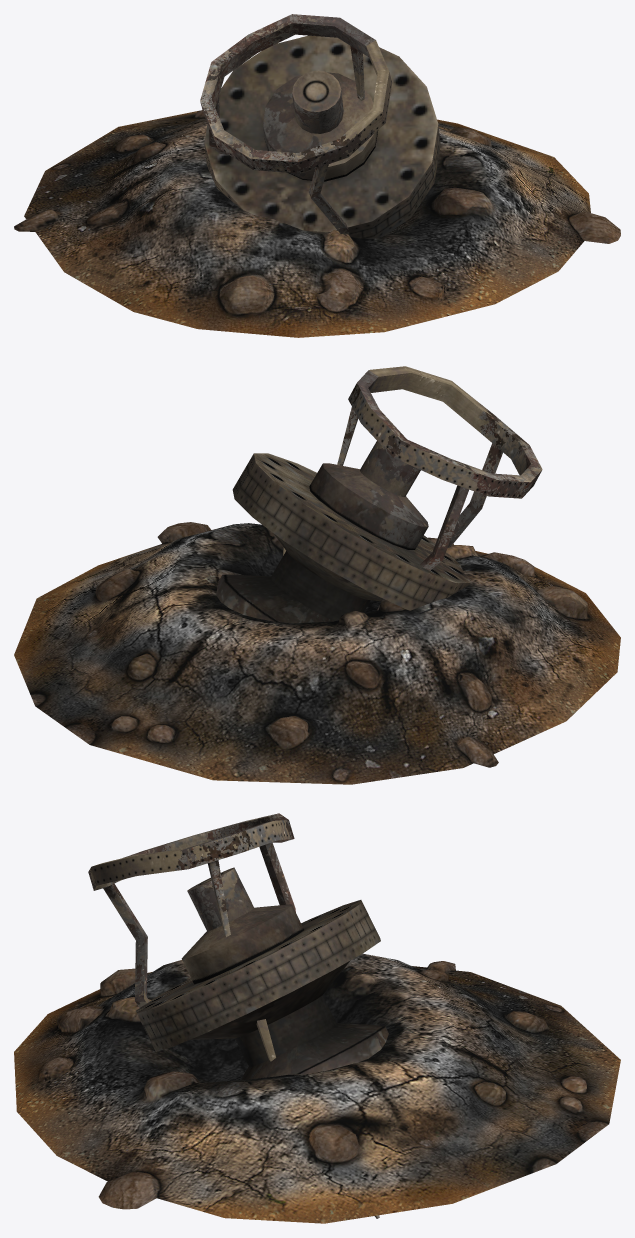
File: rubble_crater2_3x3.dae
The picture shows the model from 3 angles, top to bottom: view 1: azimuth 30°, elevation 25°; view 2: azimuth 150°, elevation 25°; view 3: azimuth 270°, elevation 25°; orthographic projection. The views are drawn at different scales.
Visible parts, largest first — view 1: crater1, rubble_part00, rubble_pieces04; view 2: crater1, rubble_part00, rubble_pieces04; view 3: crater1, rubble_part00, rubble_pieces04.
Part boxes in pixels (<box>): crater1: <box>14,110,620,337</box>; rubble_part00: <box>204,35,440,238</box>; rubble_pieces04: <box>200,14,392,235</box>; crater1: <box>14,522,620,784</box>; rubble_part00: <box>216,441,470,623</box>; rubble_pieces04: <box>283,366,542,610</box>; crater1: <box>14,953,620,1223</box>; rubble_part00: <box>136,867,388,1218</box>; rubble_pieces04: <box>88,813,295,1061</box>.
Size of the model in its own units: 8.01 by 7.87 by 5.02.
Materials: 2 (2 with a texture image).
